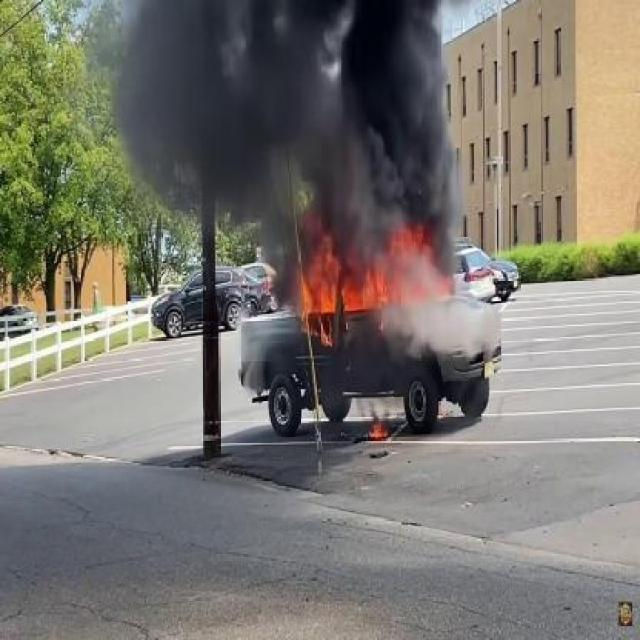Fire: (253, 226, 508, 380)
Smoke: (135, 8, 446, 236)
